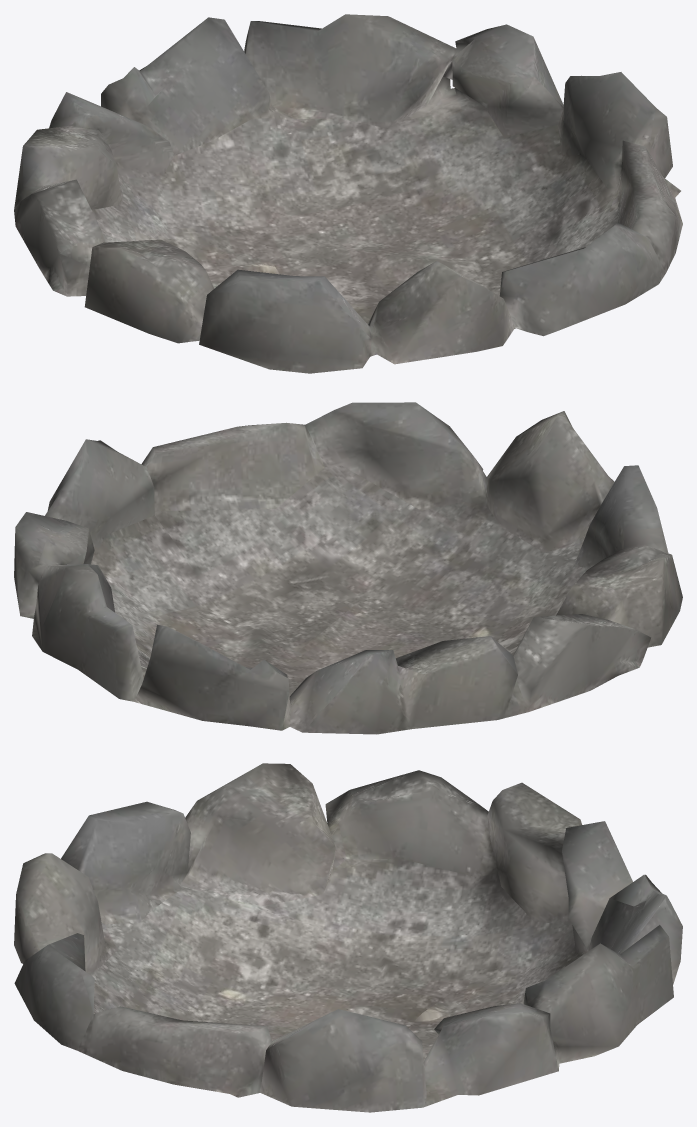
Rendered from stone_fire_pit.glb.
3 views of the same model, one above another, from view 1: azimuth 30°, elevation 25°; view 2: azimuth 150°, elevation 25°; view 3: azimuth 270°, elevation 25° (orthographic).
Visible parts, largest first — view 1: stone_fire_pit; view 2: stone_fire_pit; view 3: stone_fire_pit.
Part boxes in pixels (left/top/right/bottom): stone_fire_pit: left=14, top=14, right=682, bottom=373; stone_fire_pit: left=14, top=402, right=682, bottom=734; stone_fire_pit: left=14, top=763, right=682, bottom=1112.
Size of the model in its own units: 1.45 by 0.3811 by 1.43.
Materials: 1 (1 with a texture image).
